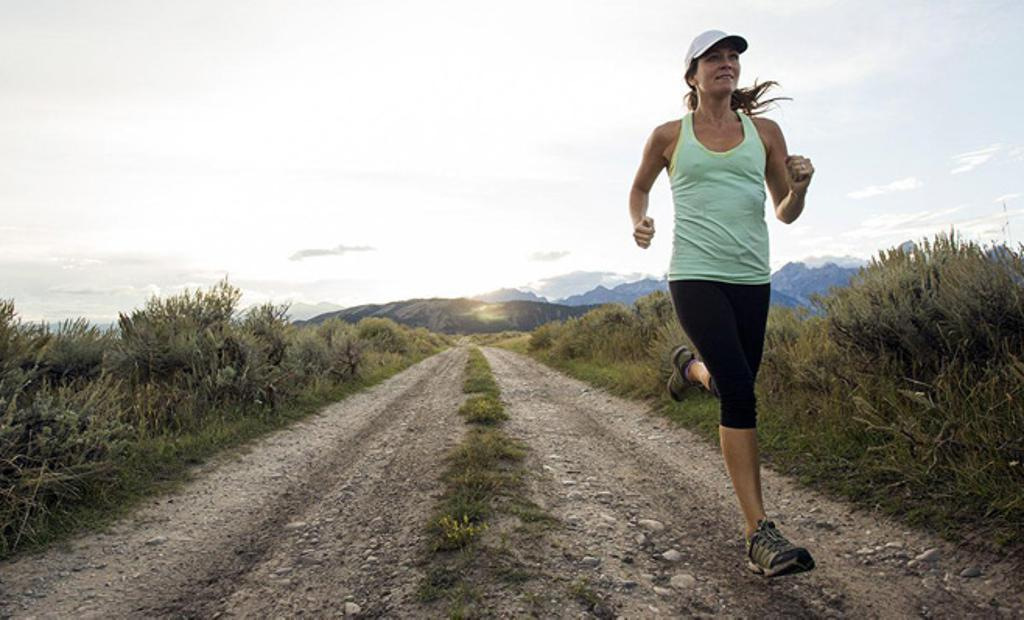face: (697, 43, 741, 94)
